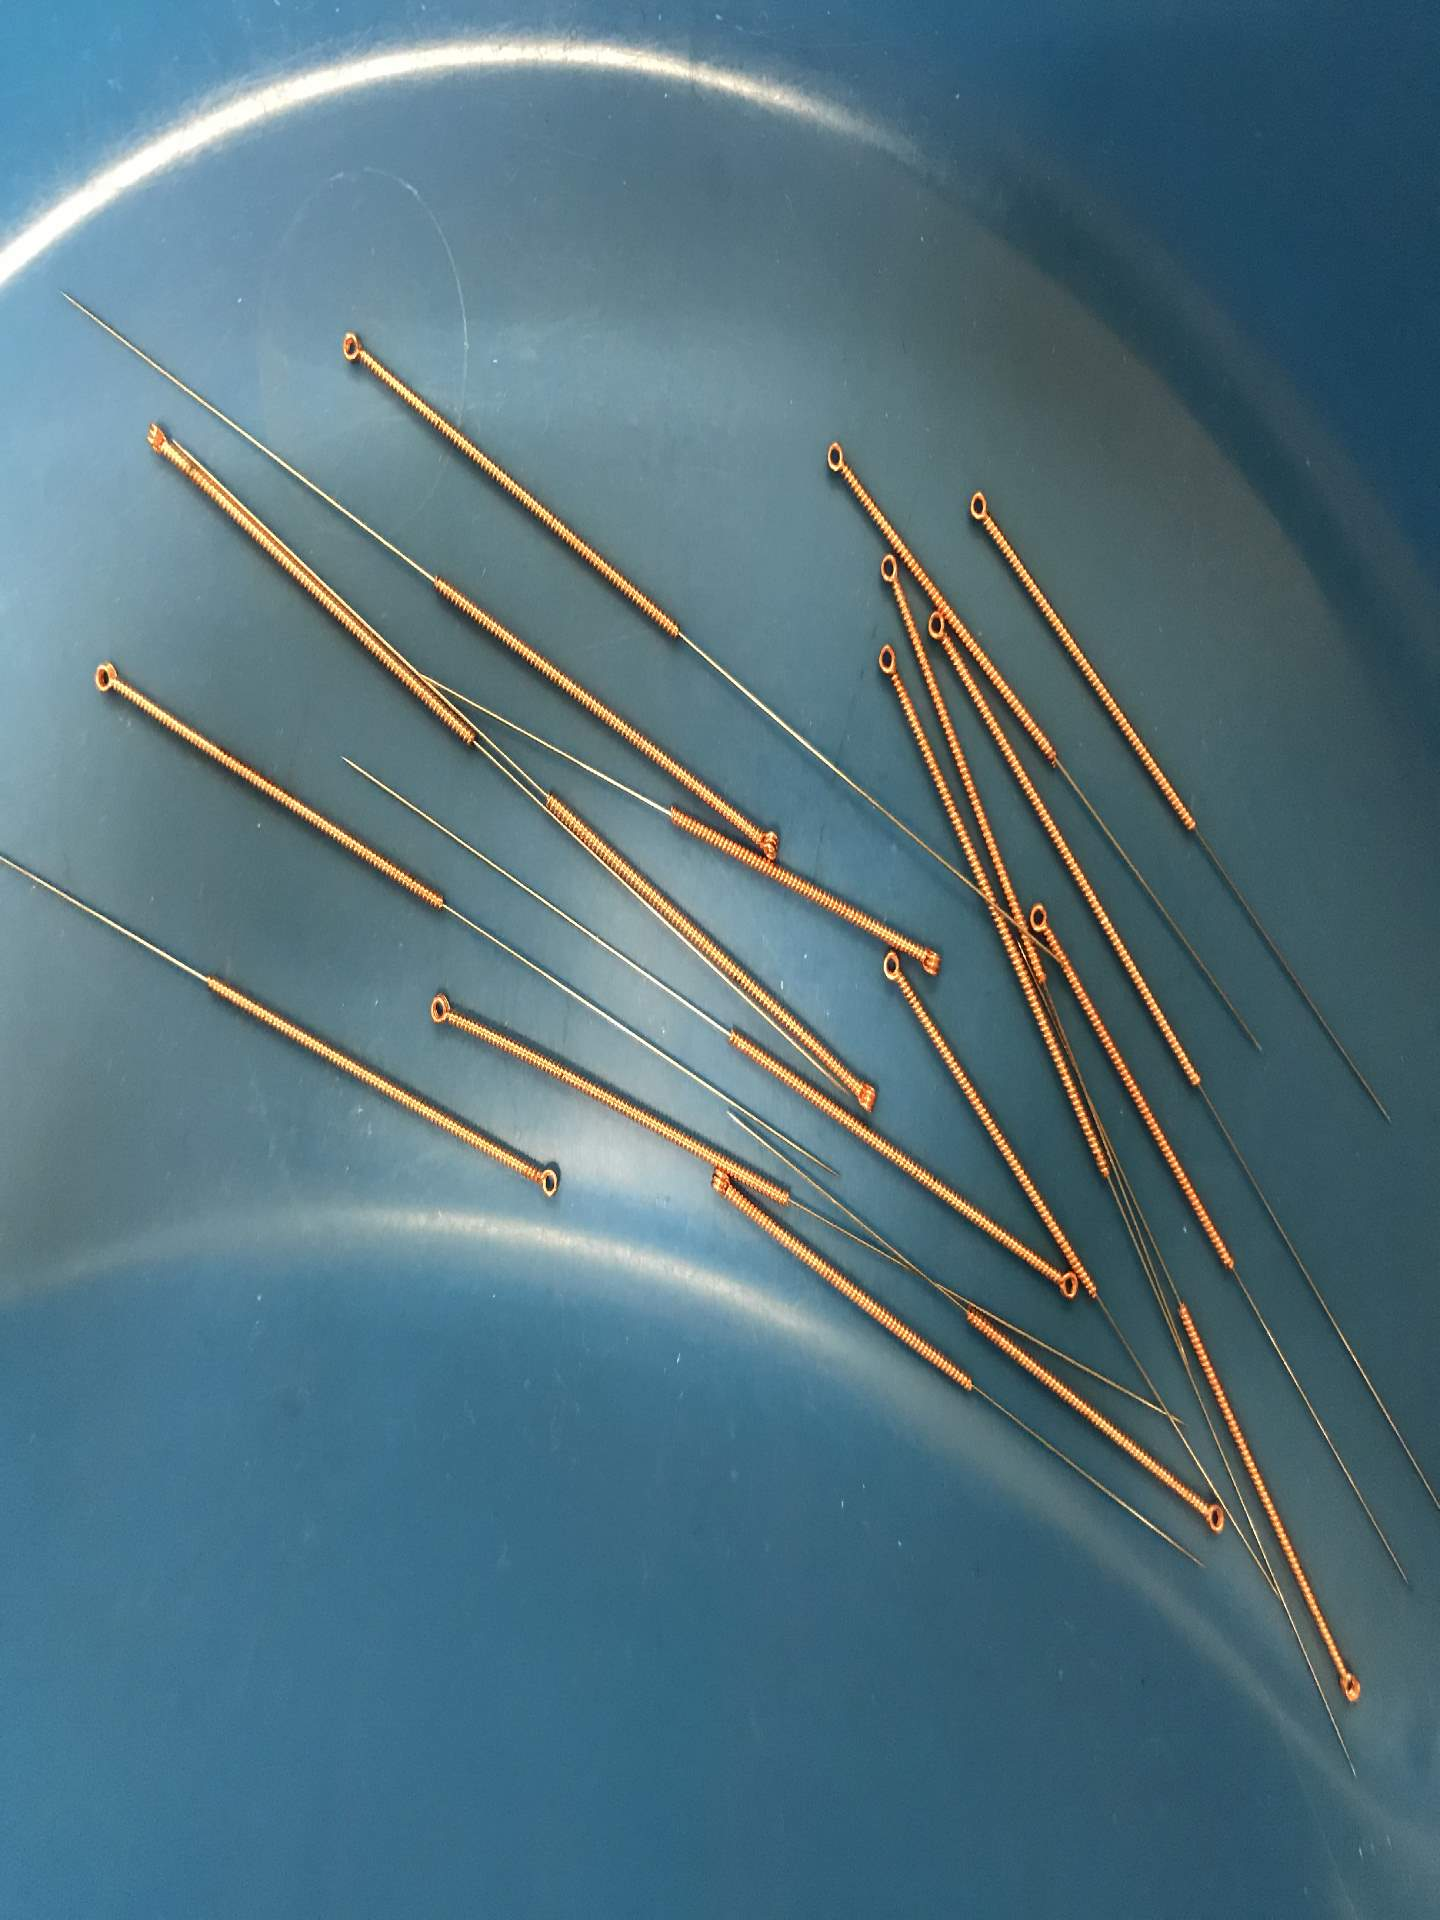needle: (83, 655, 132, 701), (331, 324, 378, 372), (815, 432, 858, 485), (526, 1158, 570, 1206), (419, 986, 463, 1031), (138, 416, 175, 463), (846, 1072, 883, 1119), (961, 485, 998, 531), (871, 636, 905, 688), (1333, 1658, 1367, 1707), (911, 942, 948, 983), (753, 816, 787, 862), (1193, 1497, 1230, 1538), (1026, 893, 1054, 943), (874, 948, 908, 989), (702, 1166, 734, 1206), (873, 549, 902, 593), (924, 608, 951, 649), (1054, 1268, 1082, 1299)
